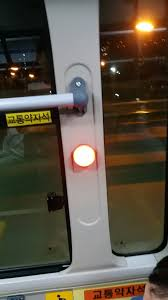bell: (68, 142, 102, 176)
